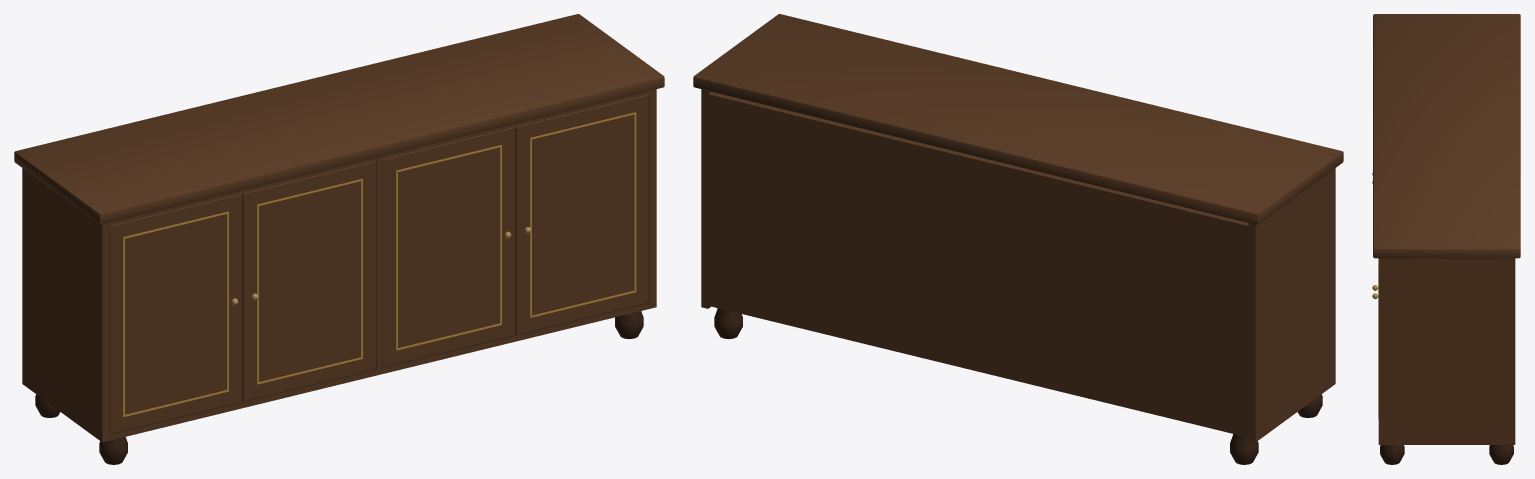
The model's file is sideboard_walnut.glb.
3 renders of one model, left to right at view 1: azimuth 30°, elevation 25°; view 2: azimuth 150°, elevation 25°; view 3: azimuth 270°, elevation 25°, orthographic. The views are drawn at different scales.
Parts seen in each view (by area): view 1: sideboard_walnut, door_4, door_2, door_3, door_1; view 2: sideboard_walnut; view 3: sideboard_walnut, door_4.
Boxes of the visible parts, box(x1,y1,x2,y2) form: sideboard_walnut: box(14, 14, 664, 464); door_4: box(515, 94, 649, 334); door_2: box(242, 161, 376, 401); door_3: box(382, 127, 515, 367); door_1: box(109, 194, 242, 434); sideboard_walnut: box(693, 14, 1343, 464); sideboard_walnut: box(1373, 14, 1520, 464); door_4: box(1372, 258, 1378, 418).
Bounding box in the file's own units: 2.04 × 0.9 × 0.543.
